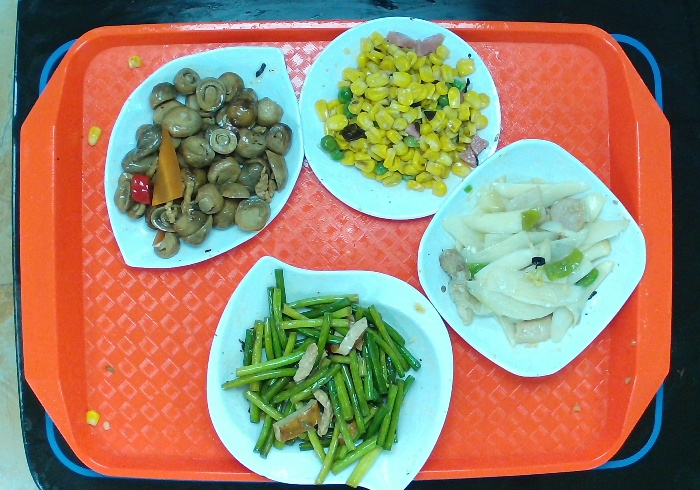RJxy-Da_Du_Pan: (100, 44, 306, 269)
RJxy-Shuang_Jiao_Pan: (204, 254, 456, 490)
RJxy-Si_Fang_Wan: (415, 137, 647, 378)
RJxy-Xiao_Yuan_Die: (297, 15, 504, 222)
